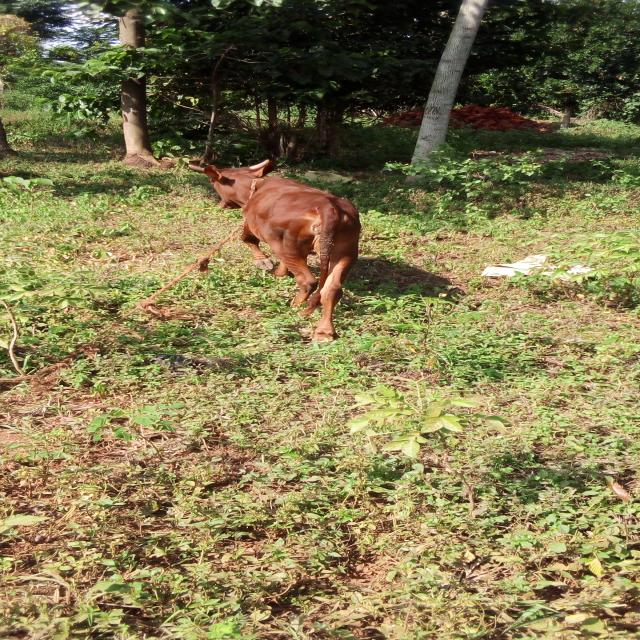Rear: (189, 160, 361, 341)
